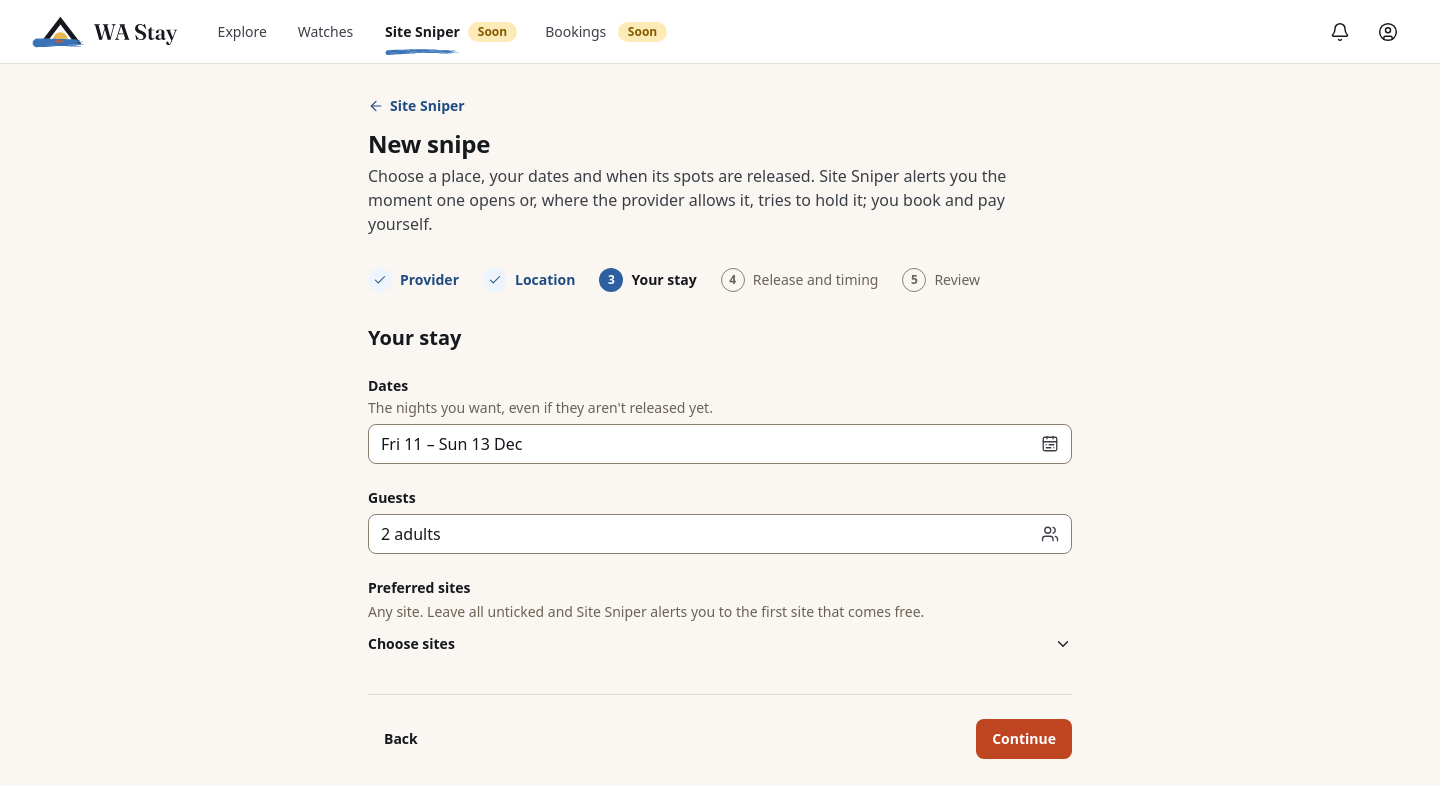
Test: ReleaseStep: when the dates are free › with a provider without holds: no choice, one line saying it alerts
What coordinates should you click on to do the following:
click the button "Continue"
I would click on:
 (1024, 739)
Its box is x1=976 y1=719 x2=1072 y2=759.
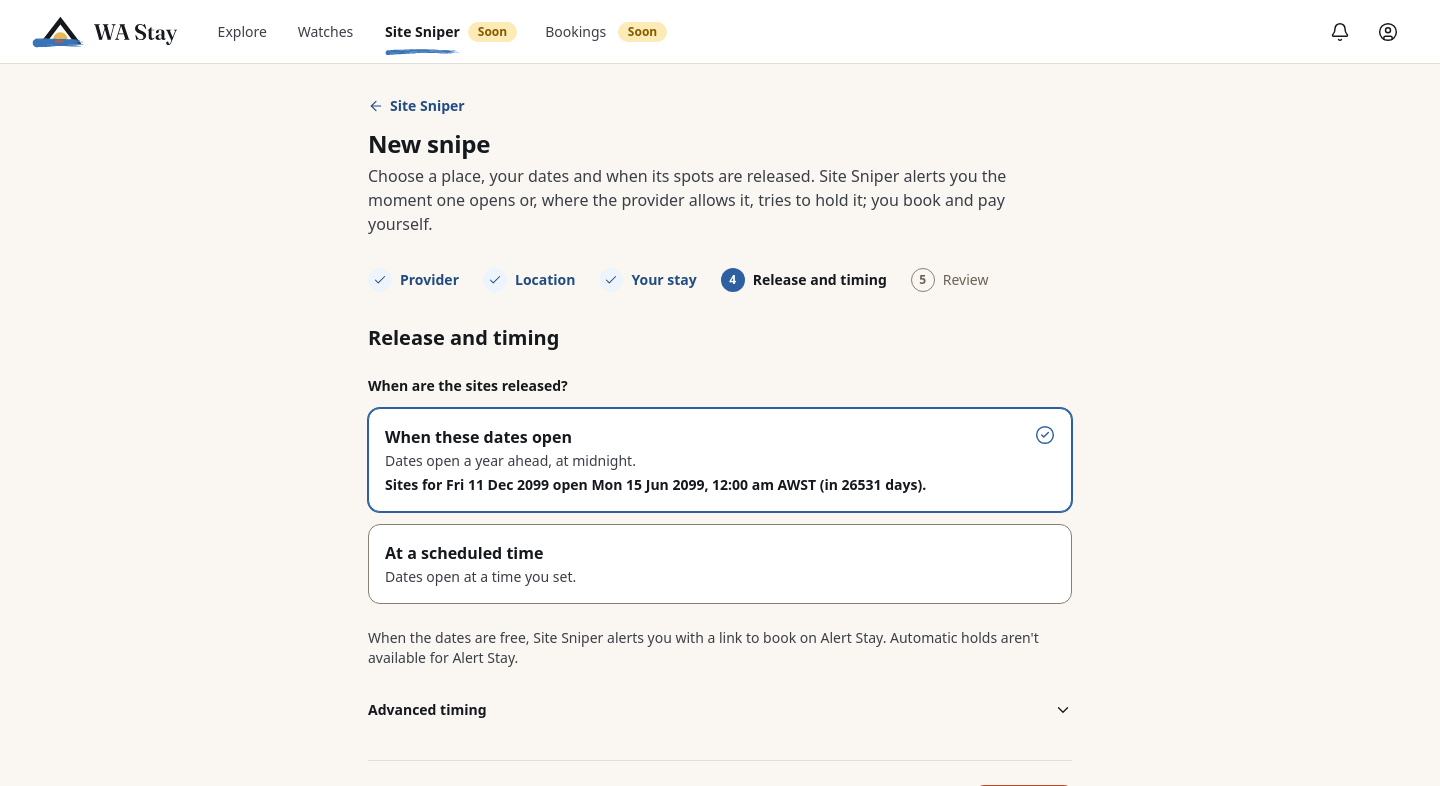
Expected: the text "When the dates are free, Site Sniper alerts you with a link to book on Alert Stay. Automatic holds aren't available for " is shown, x1=368 y1=628 x2=1072 y2=668
